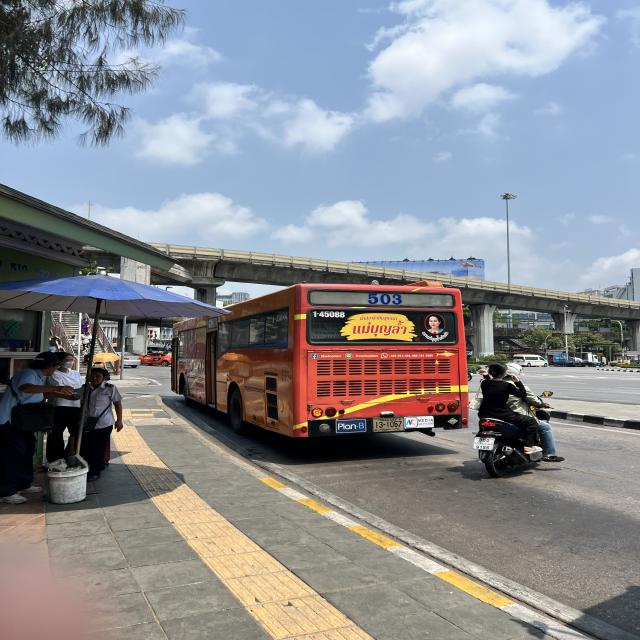BMTA-bus: (170, 282, 470, 443)
Bus-Line-Number: (363, 290, 408, 306)
